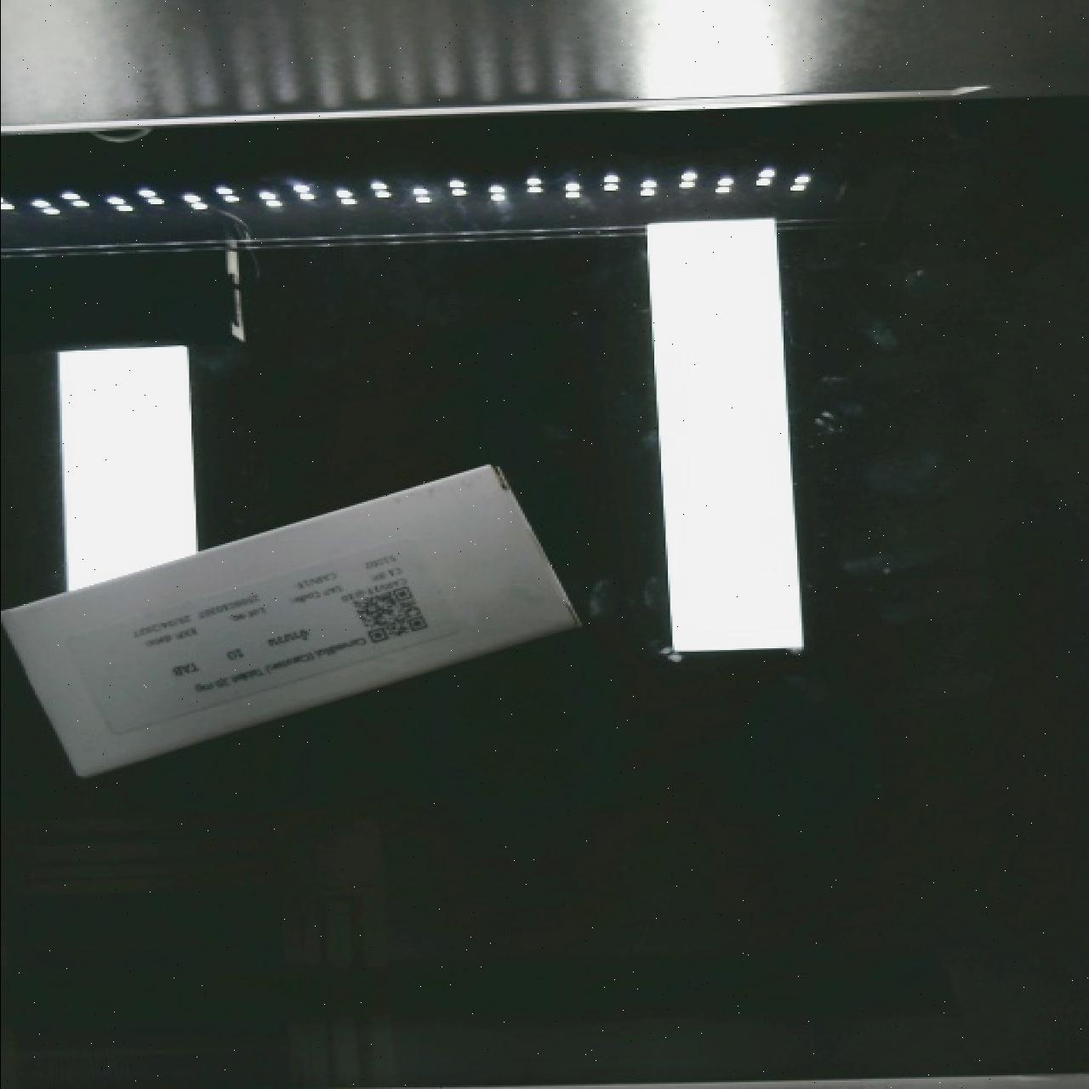qr_code: (339, 565, 445, 657)
